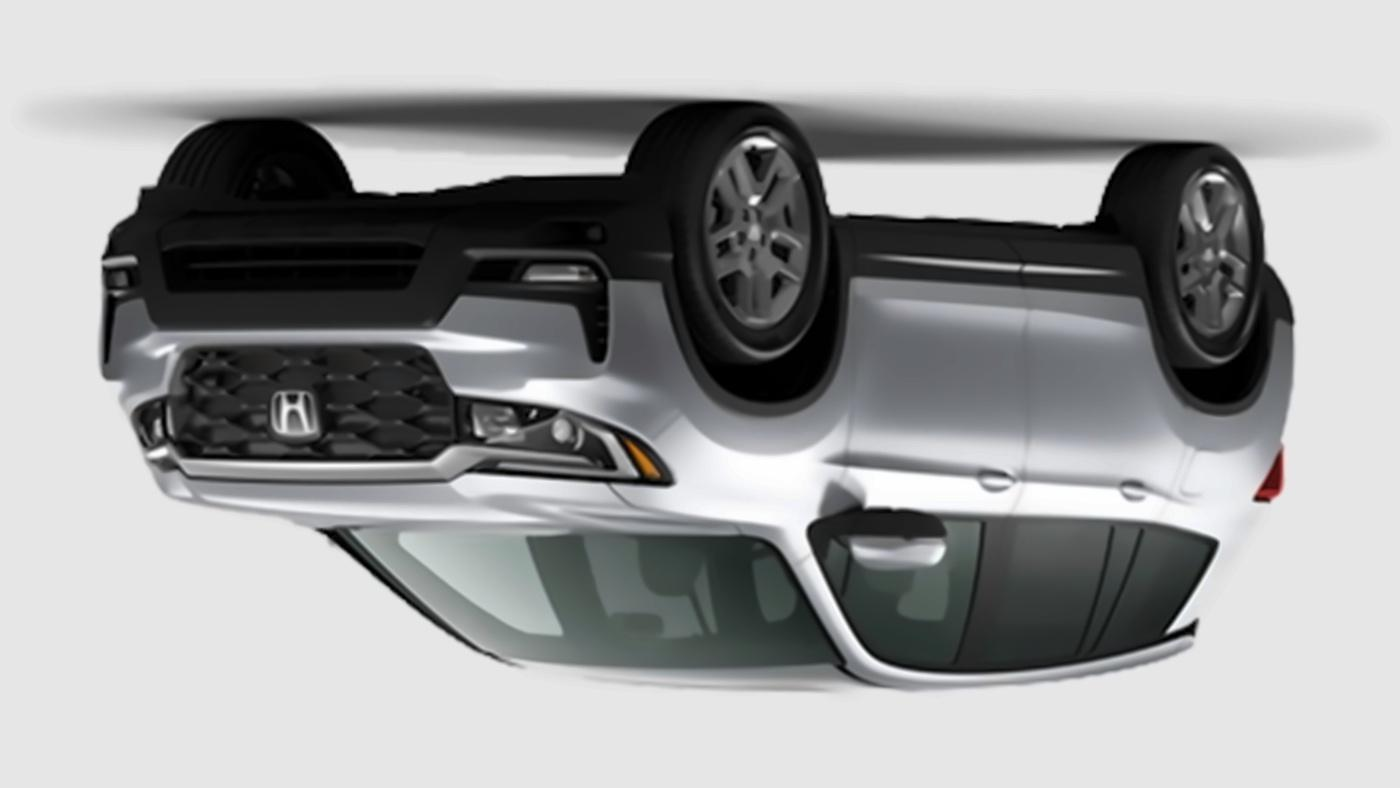Car hood: (138, 465, 754, 552)
Driver-s door - -F-R-: (806, 209, 1052, 689)
Fender - -F-R-: (597, 243, 855, 566)
Fender - -R-R-: (1124, 250, 1302, 591)
Front bumper: (86, 170, 680, 348)
Headlight - -L-: (128, 394, 178, 466)
Headlight - -R-: (448, 399, 672, 488)
Passenger-s door - -R-R-: (951, 201, 1172, 721)
Side bumper - -R-: (833, 201, 1163, 312)
Side mirror - -R-: (811, 514, 951, 571)
